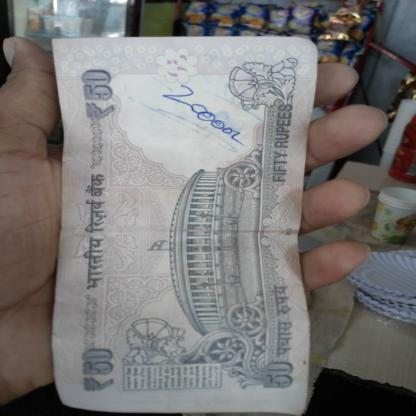Old50Back: (50, 36, 320, 416)
